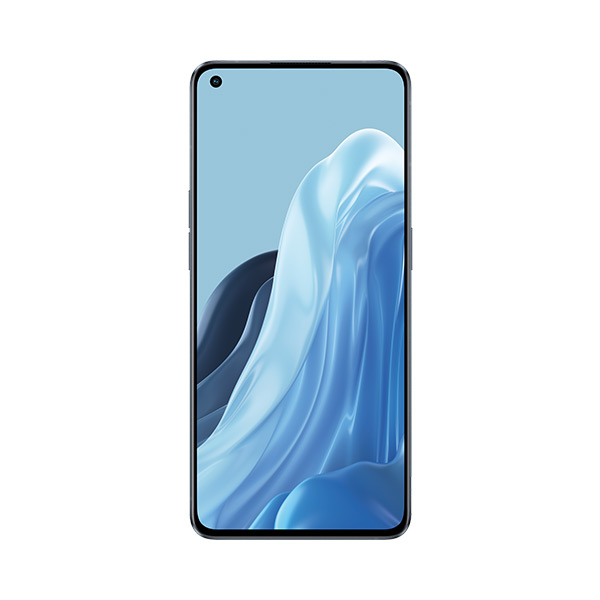phones: (175, 51, 419, 549)
